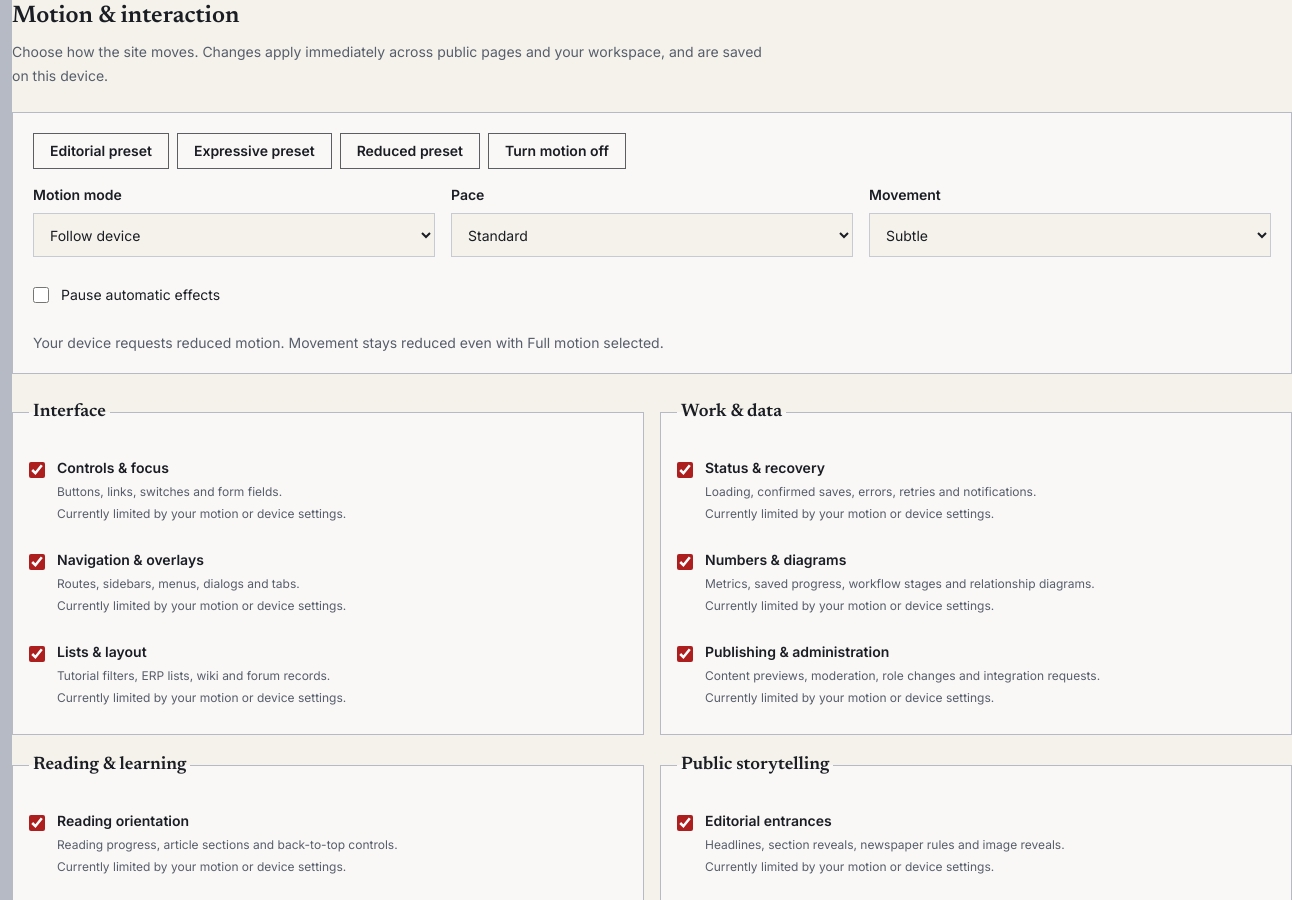
organized personal motion settings › explains an OS reduction and never overrides it with an expressive preset
The image size is (1292, 900).
Click the button "Expressive preset".
click(254, 151)  # box [177,133,332,169]
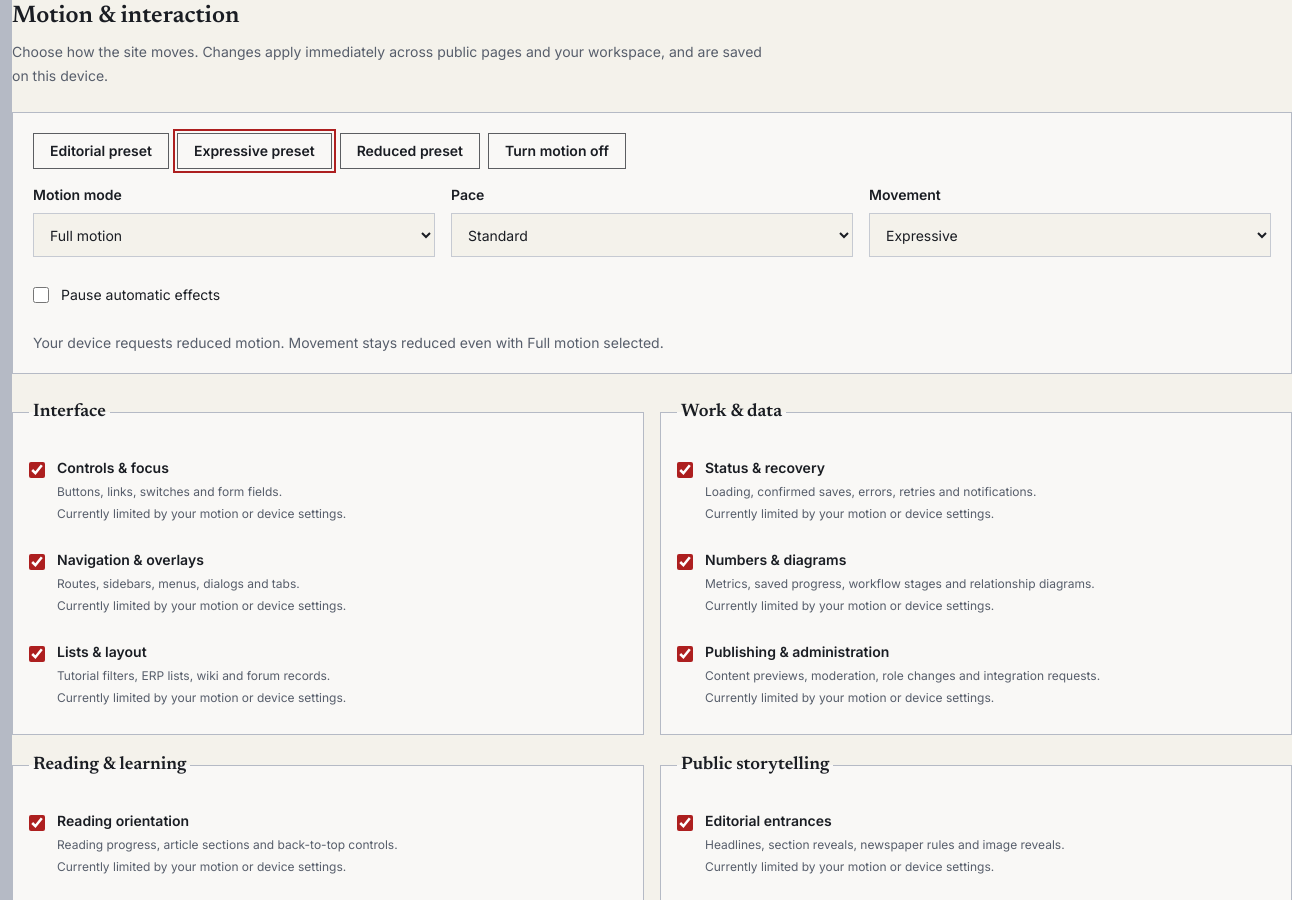
Check: the text "Your device requests reduced motion" is shown, box [33,334,664,351]
Check: the dropdown labelled "Motion mode" shows "Full motion", box [33,213,435,257]
